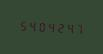five: (17, 18, 25, 32)
four: (26, 18, 34, 33), (44, 19, 52, 34), (62, 20, 70, 35)
seven: (71, 21, 79, 35)
two: (53, 20, 61, 34)
zero: (35, 19, 43, 33)
